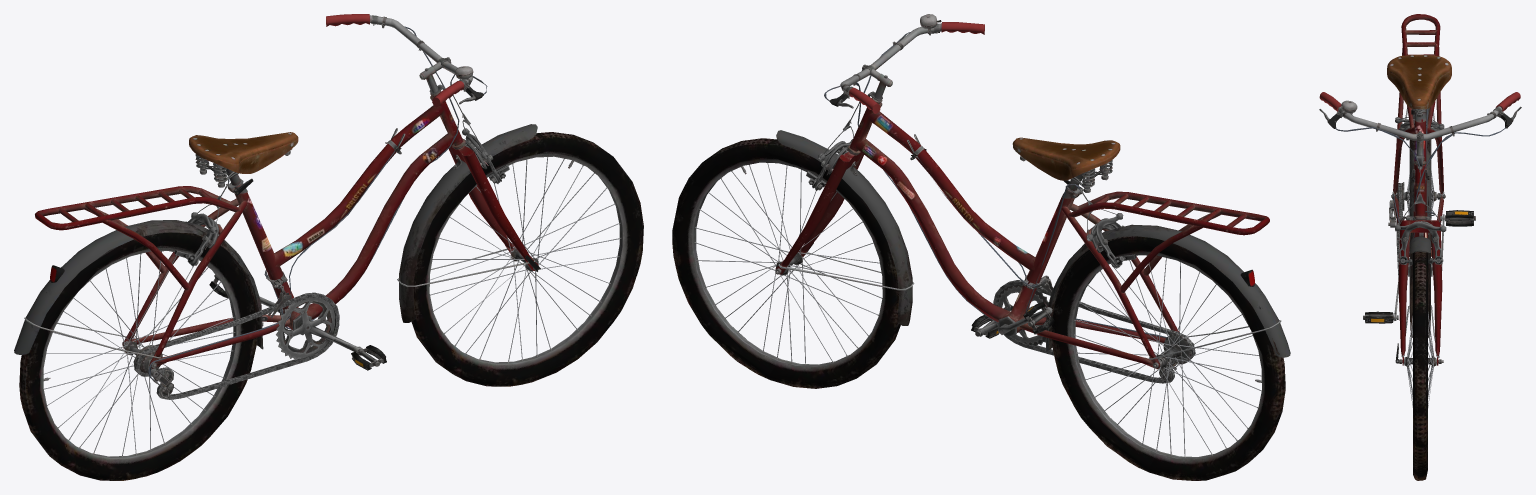
The model's file is bicycle.glb.
3 views of the same model, side by side, from view 1: azimuth 30°, elevation 25°; view 2: azimuth 150°, elevation 25°; view 3: azimuth 270°, elevation 25° (orthographic). The views are drawn at different scales.
Visible parts, largest first — view 1: rama_low_whell_0, rama_low_frame_0, rama_low_other_0, rama_low_gear_0, rama_low_detail_0, rama_low_seater_0, rama_low_brake_0; view 2: rama_low_whell_0, rama_low_frame_0, rama_low_other_0, rama_low_detail_0, rama_low_gear_0, rama_low_seater_0, rama_low_brake_0; view 3: rama_low_frame_0, rama_low_whell_0, rama_low_detail_0, rama_low_seater_0, rama_low_other_0, rama_low_brake_0, rama_low_gear_0.
Part boxes in pixels (<box>): rama_low_whell_0: <box>19,132,643,480</box>; rama_low_frame_0: <box>35,15,538,368</box>; rama_low_other_0: <box>14,26,537,380</box>; rama_low_gear_0: <box>133,292,362,399</box>; rama_low_detail_0: <box>43,14,574,398</box>; rama_low_seater_0: <box>189,132,298,184</box>; rama_low_brake_0: <box>157,84,509,389</box>; rama_low_whell_0: <box>672,138,1285,480</box>; rama_low_frame_0: <box>775,23,1269,369</box>; rama_low_other_0: <box>776,32,1290,359</box>; rama_low_detail_0: <box>741,14,1261,382</box>; rama_low_gear_0: <box>976,280,1195,383</box>; rama_low_seater_0: <box>1012,137,1120,189</box>; rama_low_brake_0: <box>806,91,1178,368</box>; rama_low_frame_0: <box>1338,14,1502,365</box>; rama_low_whell_0: <box>1396,171,1438,480</box>; rama_low_detail_0: <box>1319,92,1521,363</box>; rama_low_seater_0: <box>1387,54,1451,114</box>; rama_low_other_0: <box>1335,107,1505,357</box>; rama_low_brake_0: <box>1392,109,1446,265</box>; rama_low_gear_0: <box>1394,182,1444,320</box>.
Bounding box in the file's own units: 906 × 511 × 290.
Materials: 7 (7 with a texture image).
